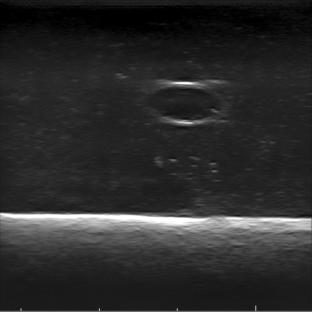vessel: (148, 80, 226, 126)
